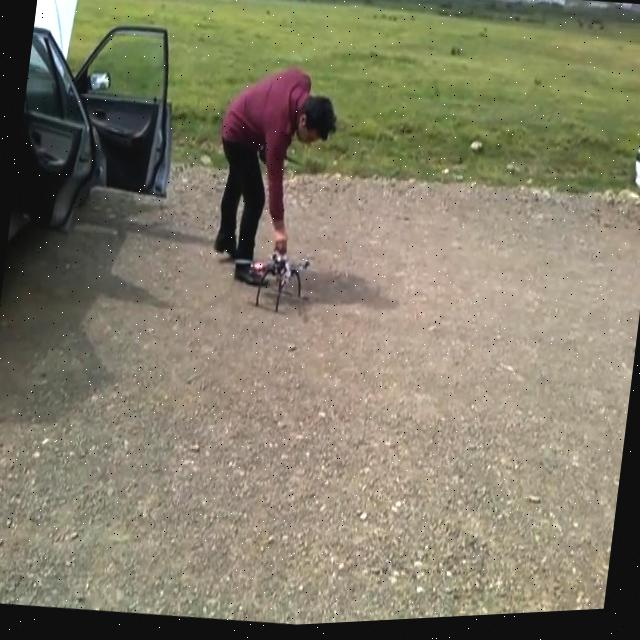drone: (228, 244, 312, 318)
